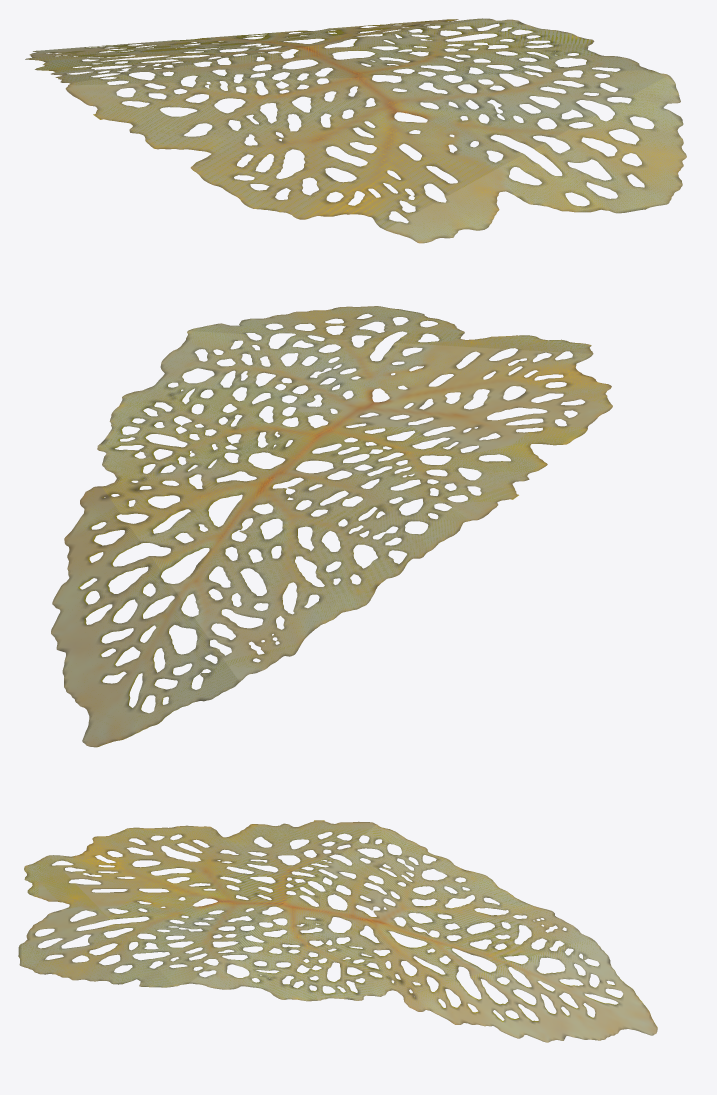
The model's file is Spin Reef Leaf A.fbx.
3 views of the same model, one above another, from view 1: azimuth 30°, elevation 25°; view 2: azimuth 150°, elevation 25°; view 3: azimuth 270°, elevation 25° (orthographic). The views are drawn at different scales.
Visible parts, largest first — view 1: Spin Reef Leaf A; view 2: Spin Reef Leaf A; view 3: Spin Reef Leaf A.
Boxes of the visible parts, bbox=[...] form: Spin Reef Leaf A: bbox=[25, 18, 686, 243]; Spin Reef Leaf A: bbox=[51, 306, 612, 747]; Spin Reef Leaf A: bbox=[18, 820, 657, 1042].
Size of the model in its own units: 43.76 by 18.34 by 74.38.
